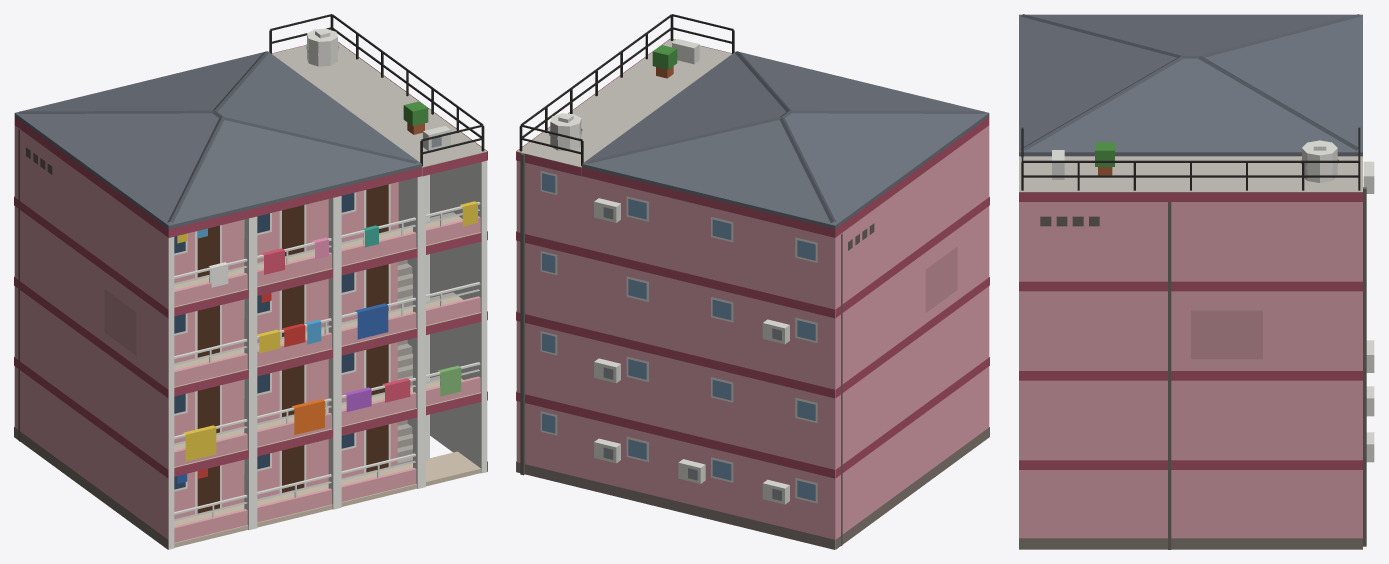
Rendered from kos_05.glb.
3 views of the same model, side by side, from view 1: azimuth 30°, elevation 25°; view 2: azimuth 150°, elevation 25°; view 3: azimuth 270°, elevation 25° (orthographic). The views are drawn at different scales.
Parts seen in each view (by area): view 1: kos_05; view 2: kos_05; view 3: kos_05.
Boxes of the visible parts, box(x1,y1,x2,y2) form: kos_05: box(14, 14, 487, 549); kos_05: box(516, 14, 989, 549); kos_05: box(1019, 14, 1374, 549).
Size of the model in its own units: 11.51 by 11.97 by 9.94.
